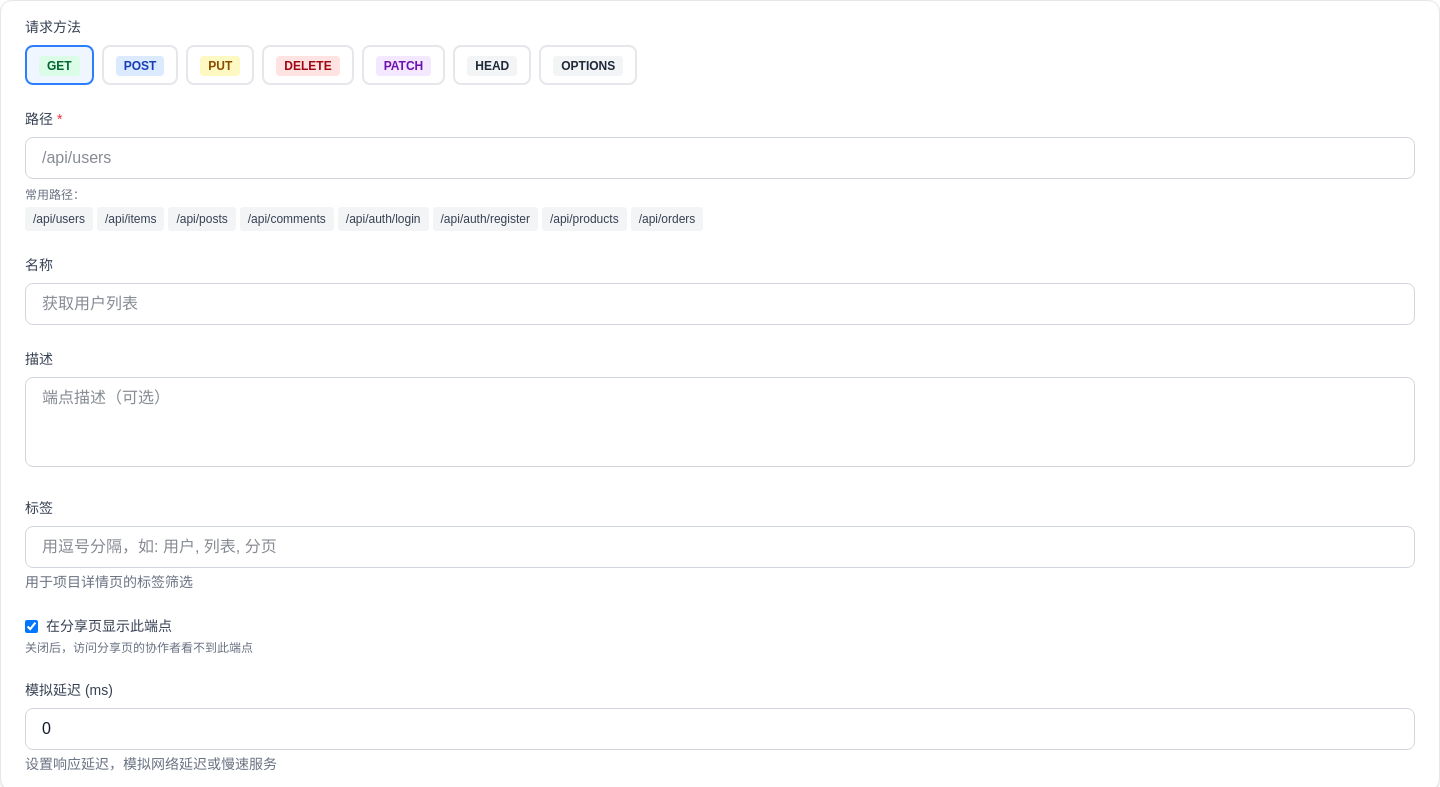
Test: EndpointForm create 模式 › 输入路径后展示 Mock URL 预览(create-only)
expect the text "Mock URL 预览" is not shown: met
Type "api/users" into the field labelled "路径 *" at (720, 158), box [25,137,1415,179]
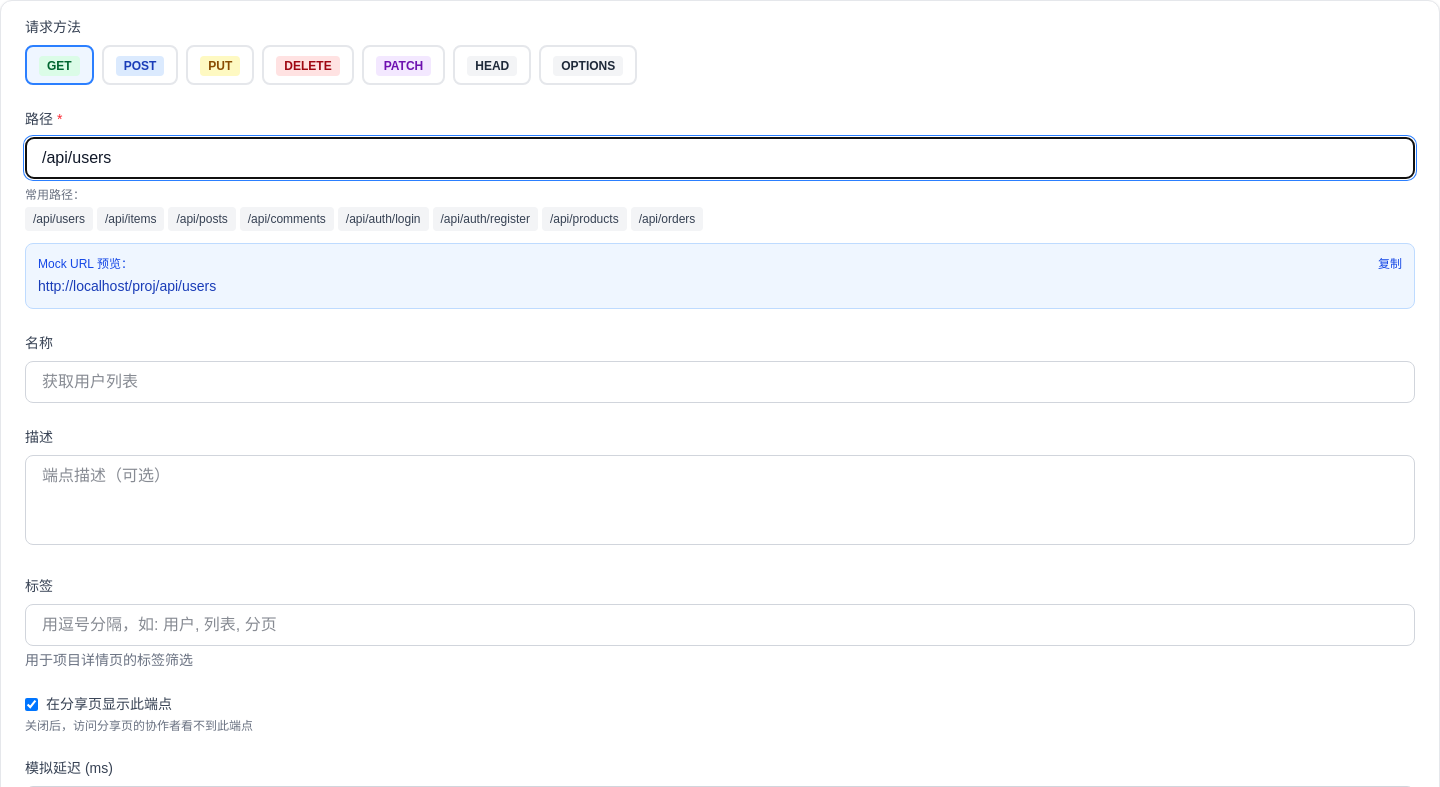
expect the text "Mock URL 预览：" is shown: met, box [38,256,133,272]
expect the text "http://localhost/proj/api/users" is shown: met, box [38,278,216,294]
